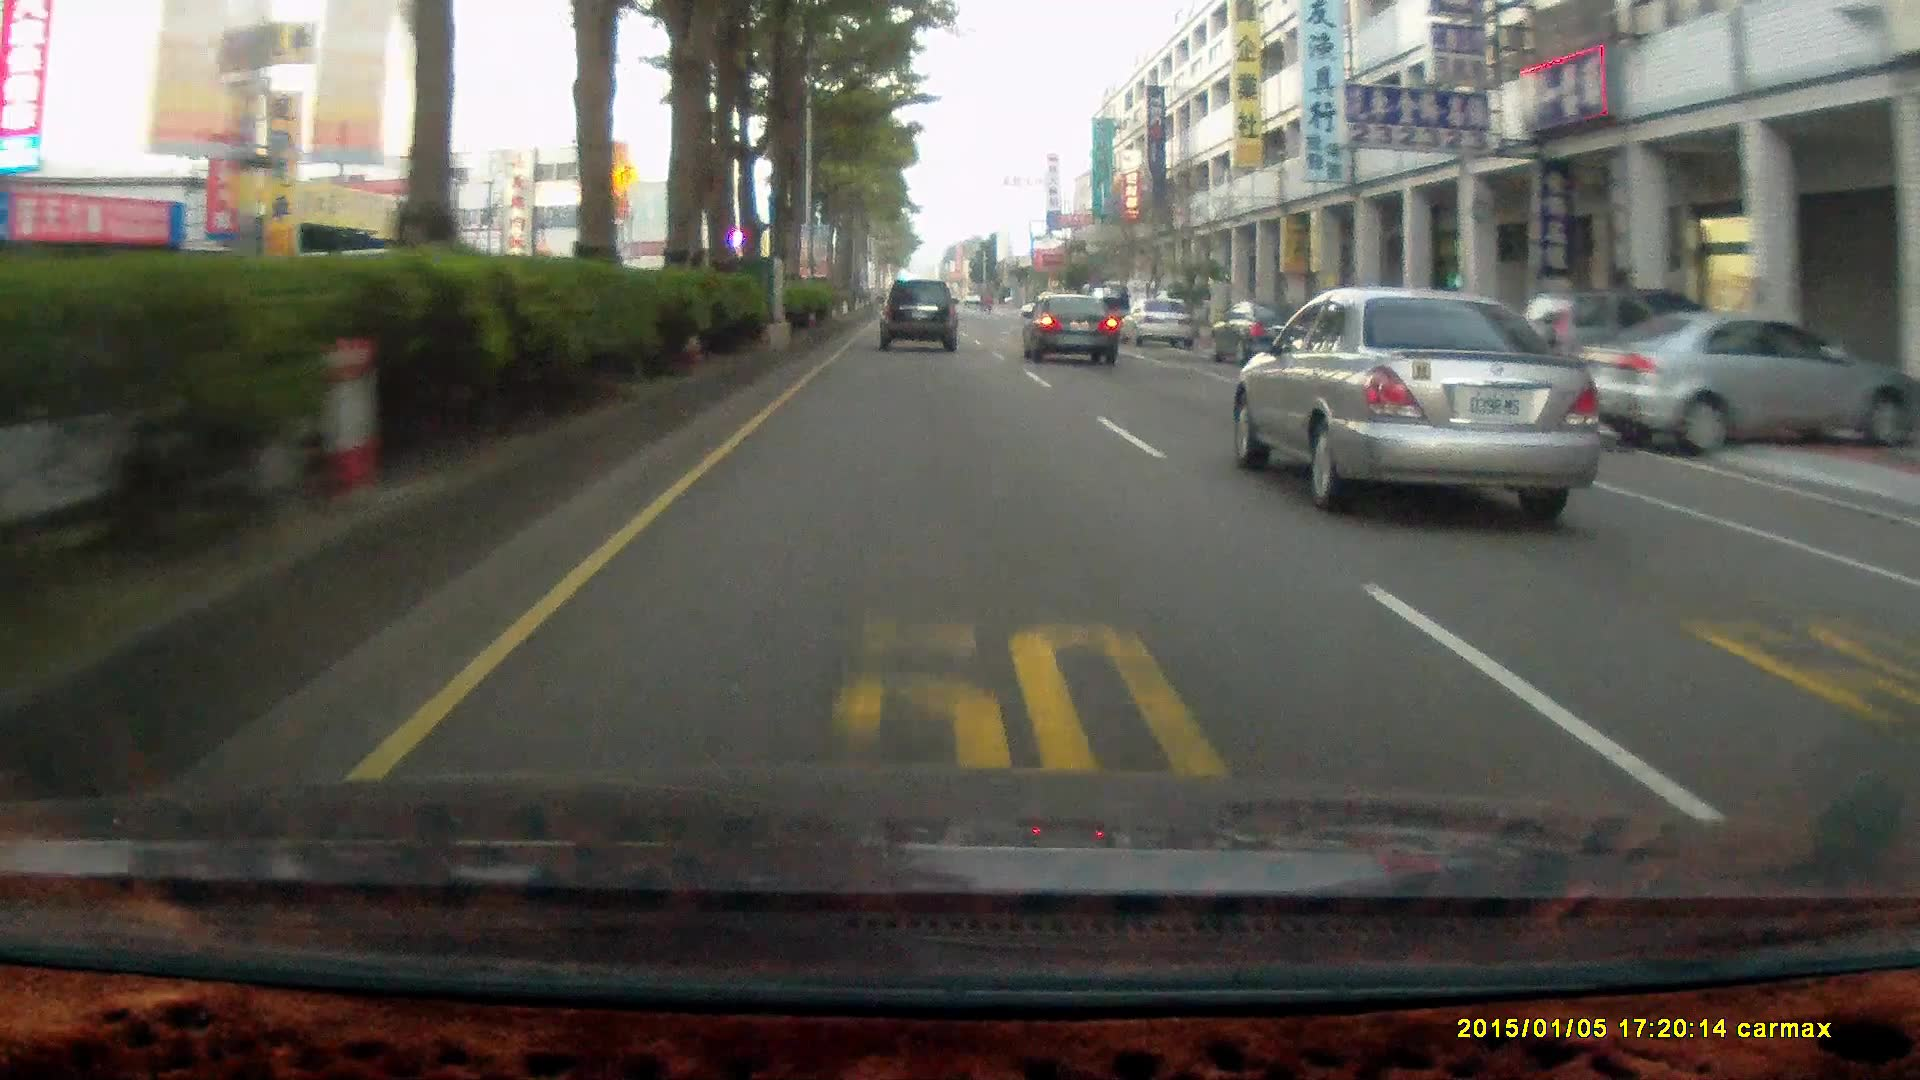vehicle: (1226, 286, 1615, 520), (1557, 313, 1920, 462), (1572, 313, 1909, 460), (1516, 287, 1737, 407), (1207, 297, 1331, 367), (1021, 291, 1117, 367), (1023, 295, 1124, 367), (877, 280, 960, 356), (876, 278, 959, 349), (1117, 295, 1196, 349), (1127, 299, 1199, 349)
